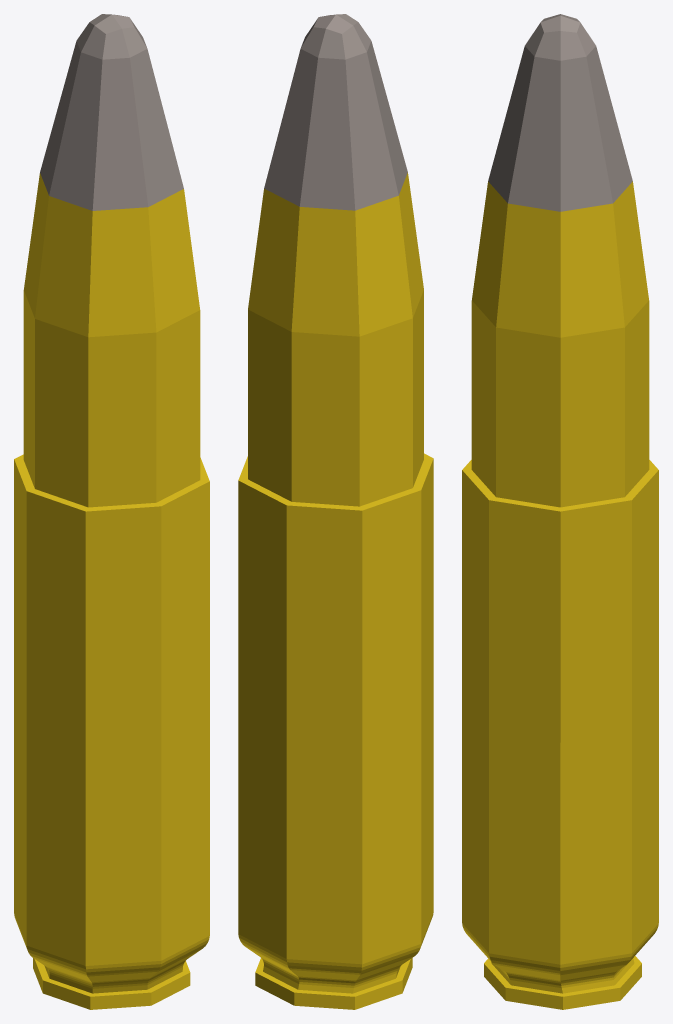
File: bullets1.fbx
The picture shows the model from 3 angles, left to right: view 1: azimuth 30°, elevation 25°; view 2: azimuth 150°, elevation 25°; view 3: azimuth 270°, elevation 25°; orthographic projection.
Visible parts, largest first — view 1: Cube, Cube.001; view 2: Cube, Cube.001; view 3: Cube, Cube.001.
Part boxes in pixels (x1,y1,x2,y2): Cube: (14, 173, 209, 1009); Cube.001: (40, 14, 183, 210); Cube: (238, 172, 433, 1009); Cube.001: (264, 14, 407, 210); Cube: (462, 181, 658, 1009); Cube.001: (488, 14, 632, 211).
Size of the model in its own units: 341 by 1838 by 341.
